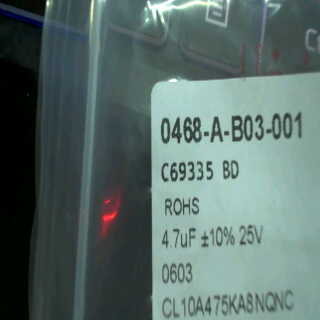4.7uF: (160, 222, 197, 258)
